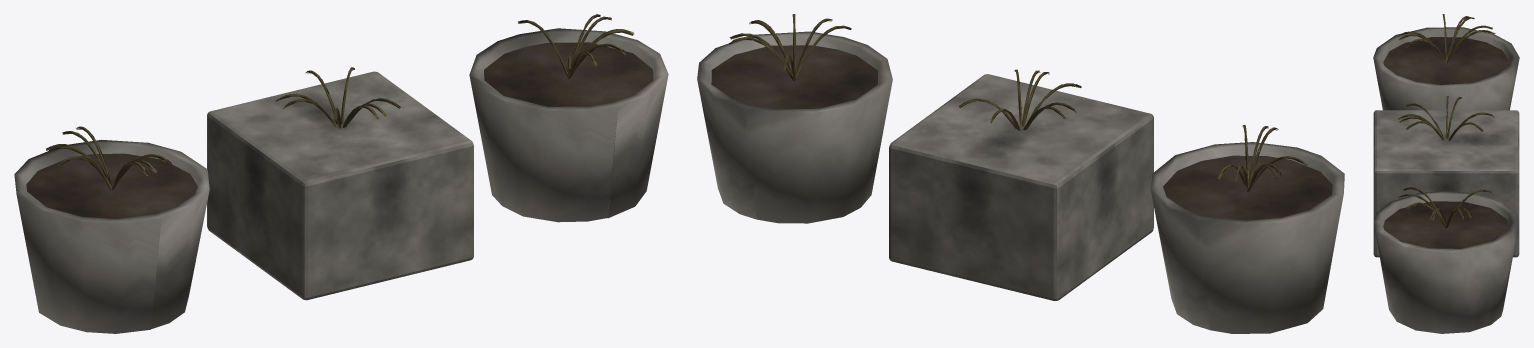
The model's file is ST06_Planters.glb.
3 views of the same model, side by side, from view 1: azimuth 30°, elevation 25°; view 2: azimuth 150°, elevation 25°; view 3: azimuth 270°, elevation 25° (orthographic). The views are drawn at different scales.
Visible parts, largest first — view 1: ST06_Planters; view 2: ST06_Planters; view 3: ST06_Planters.
Part boxes in pixels (<box>): ST06_Planters: <box>14,14,668,333</box>; ST06_Planters: <box>697,14,1344,333</box>; ST06_Planters: <box>1373,14,1519,333</box>.
Bounding box in the file's own units: 0.998 × 0.2369 × 0.274.
Materials: 3 (3 with a texture image).
